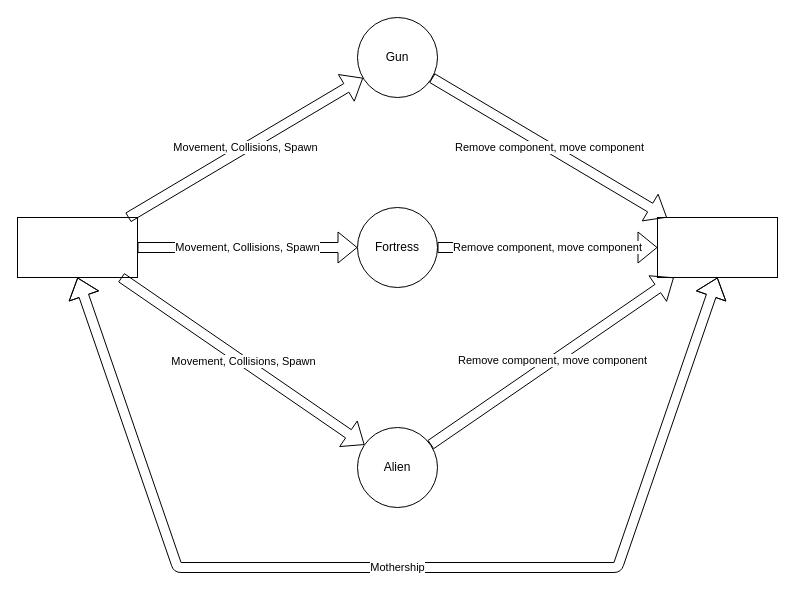
This 795x591 diagram has some shape labels left out. The box of each missing label's shape, as (x1, y1, x2, y2) in pixels:
General Channel: (16, 216, 138, 278)
Register Channel: (656, 216, 778, 278)
